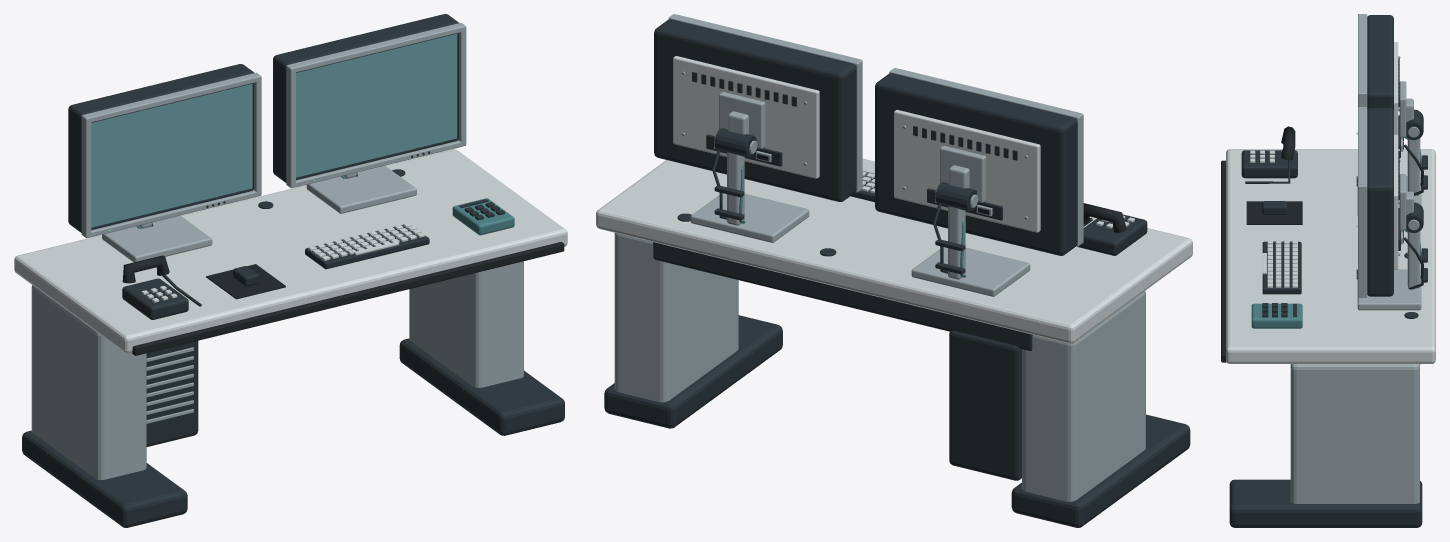
Rendered from SC_OperatorDesk_B.fbx.
3 renders of one model, left to right at view 1: azimuth 30°, elevation 25°; view 2: azimuth 150°, elevation 25°; view 3: azimuth 270°, elevation 25°, orthographic. The views are drawn at different scales.
Visible parts, largest first — view 1: SC_OperatorDesk_B; view 2: SC_OperatorDesk_B; view 3: SC_OperatorDesk_B.
Part boxes in pixels (x1,y1,x2,y2): SC_OperatorDesk_B: (14, 14, 567, 527); SC_OperatorDesk_B: (596, 14, 1192, 527); SC_OperatorDesk_B: (1221, 14, 1435, 527).
Bounding box in the file's own units: 195 × 149 × 87.95.
